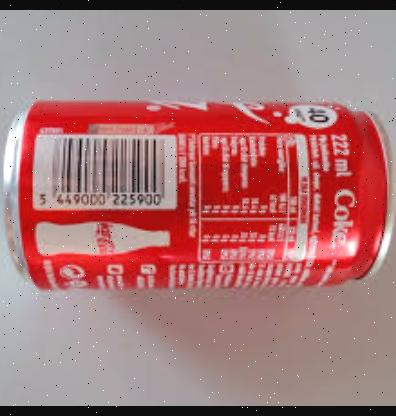Can: (1, 98, 395, 296)
